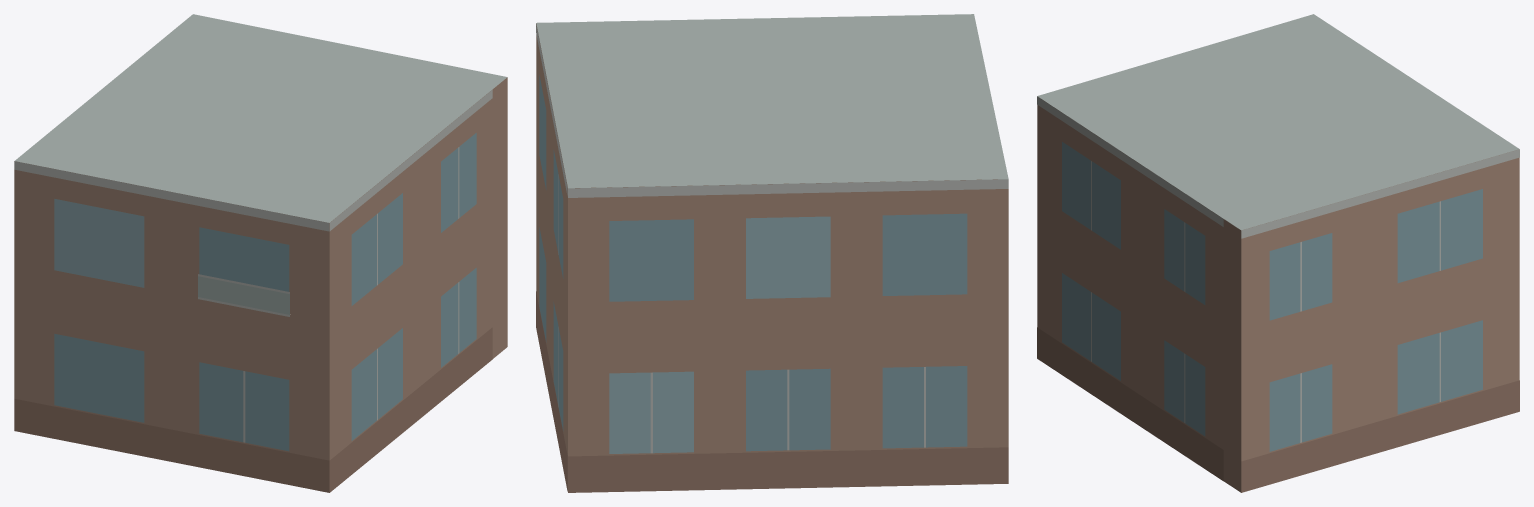
The model's file is survey-upis-32774079.glb.
3 renders of one model, left to right at view 1: azimuth 30°, elevation 25°; view 2: azimuth 150°, elevation 25°; view 3: azimuth 270°, elevation 25°, orthographic. The views are drawn at different scales.
Visible parts, largest first — view 1: survey-upis-32774079.tmp; view 2: survey-upis-32774079.tmp; view 3: survey-upis-32774079.tmp.
Part boxes in pixels (x1,y1,x2,y2): survey-upis-32774079.tmp: (14,14,507,492); survey-upis-32774079.tmp: (536,14,1008,492); survey-upis-32774079.tmp: (1037,14,1519,492).
Bounding box in the file's own units: 13.44 × 7.6 × 12.67.
